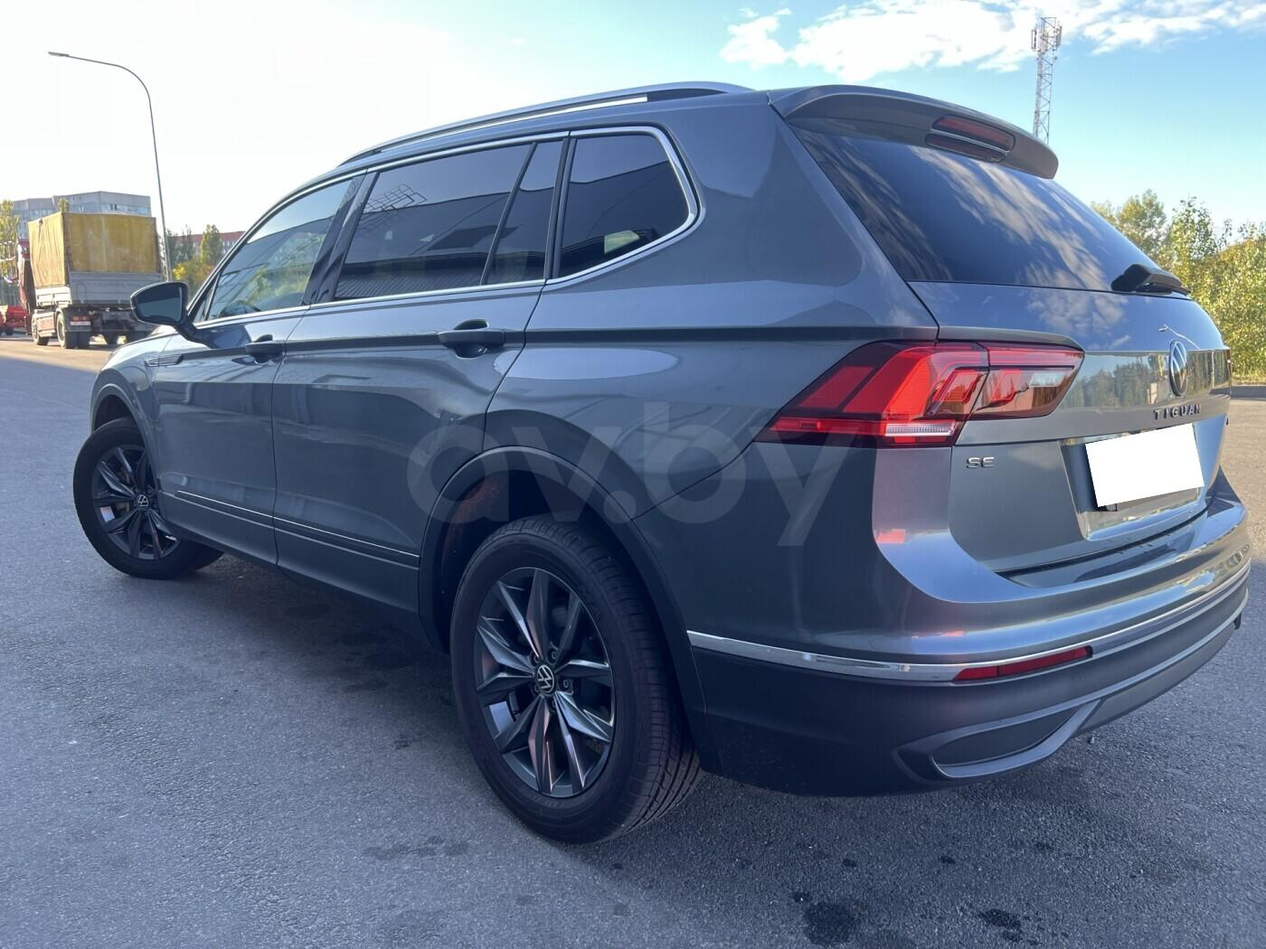Tiguan_2020-2024: (74, 80, 1254, 846)
